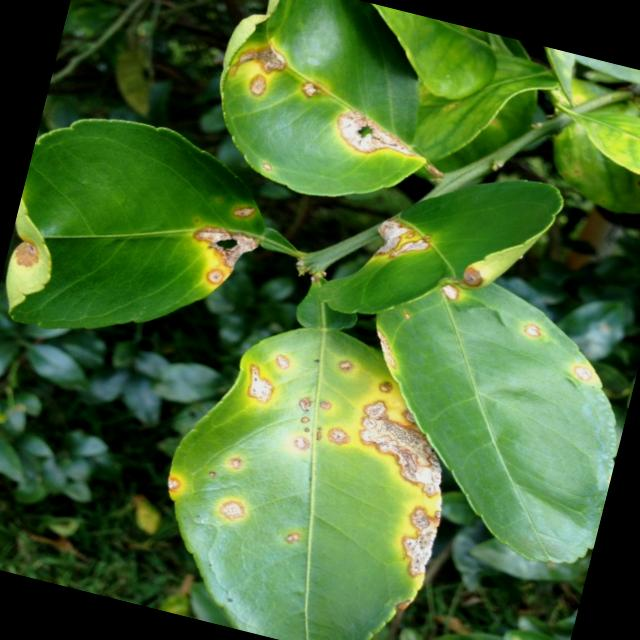leaf_spot: (168, 328, 440, 640), (6, 119, 263, 327), (220, 0, 425, 195)
